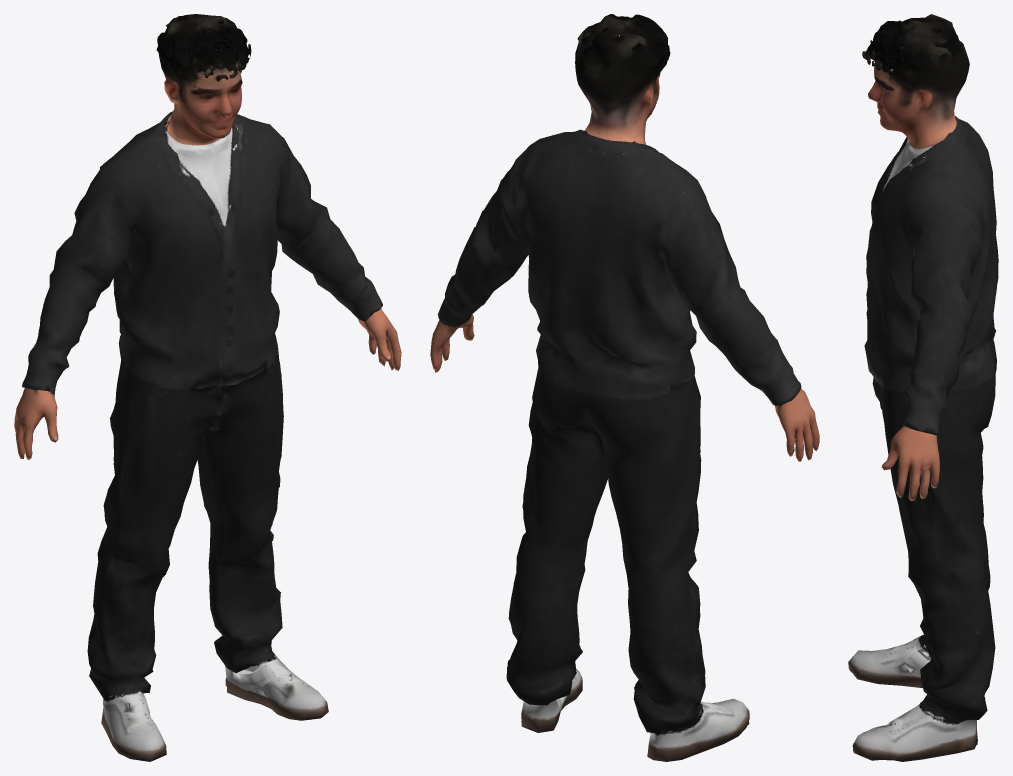
The model's file is ataallah.glb.
3 views of the same model, side by side, from view 1: azimuth 30°, elevation 25°; view 2: azimuth 150°, elevation 25°; view 3: azimuth 270°, elevation 25° (orthographic).
Parts seen in each view (by area): view 1: body; view 2: body; view 3: body.
Boxes of the visible parts, x1=… form: body: x1=14, y1=14, x2=401, y2=761; body: x1=430, y1=14, x2=819, y2=761; body: x1=848, y1=14, x2=998, y2=761.
Bounding box in the file's own units: 1.01 × 1.8 × 0.3518.
Materials: 1 (1 with a texture image).
